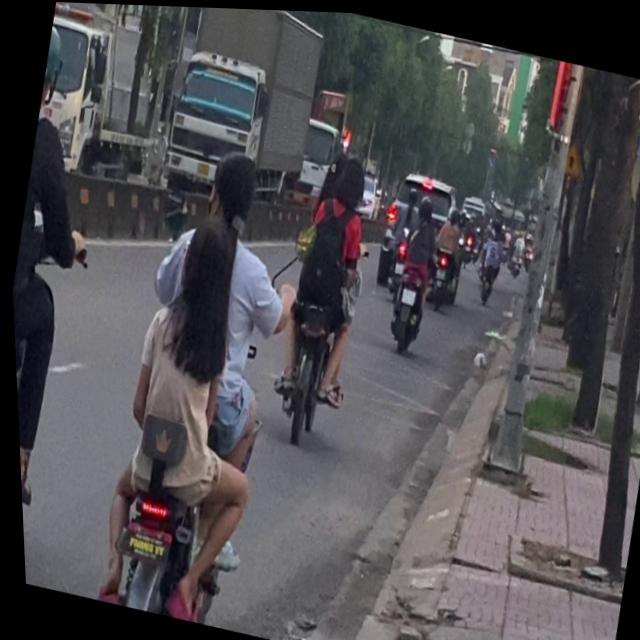licenseplate: (65, 124, 323, 633), (246, 117, 395, 454)
motorcyclist: (156, 210, 248, 371), (201, 144, 262, 227), (326, 148, 370, 211)
